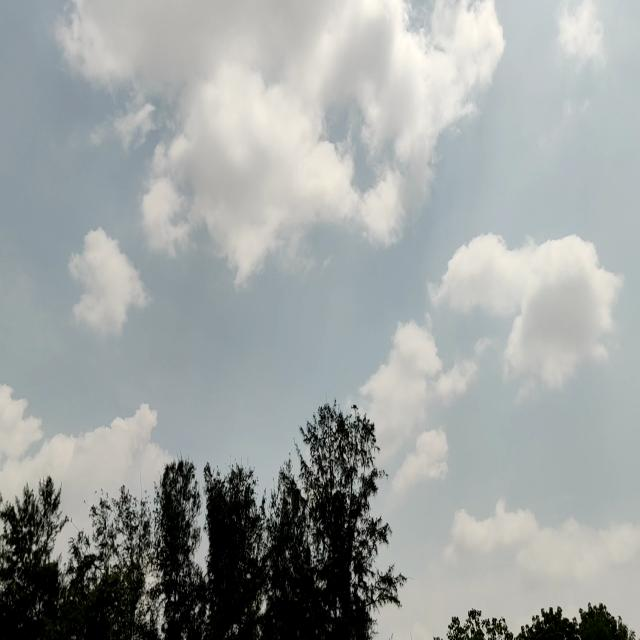drone: (351, 400, 359, 414)
